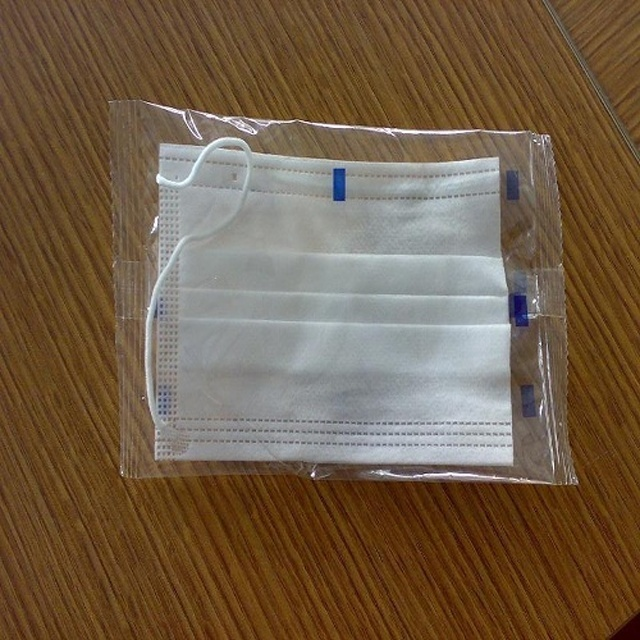mask: (140, 143, 512, 467)
